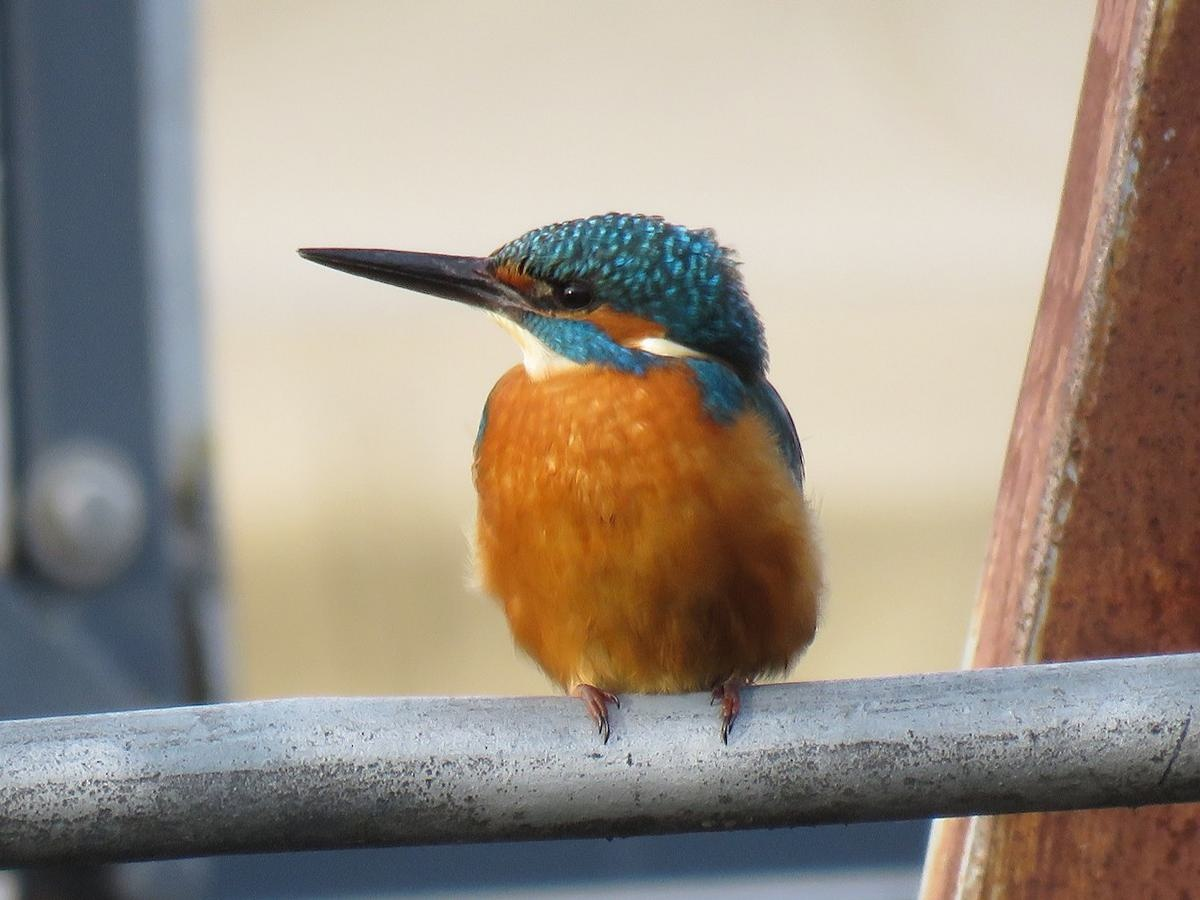kingfisher: (292, 203, 831, 759)
